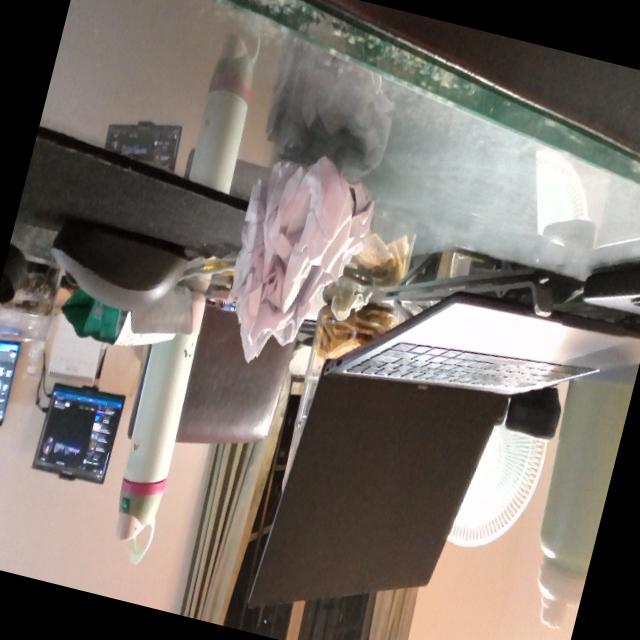crumpled_paper: (210, 137, 387, 386)
